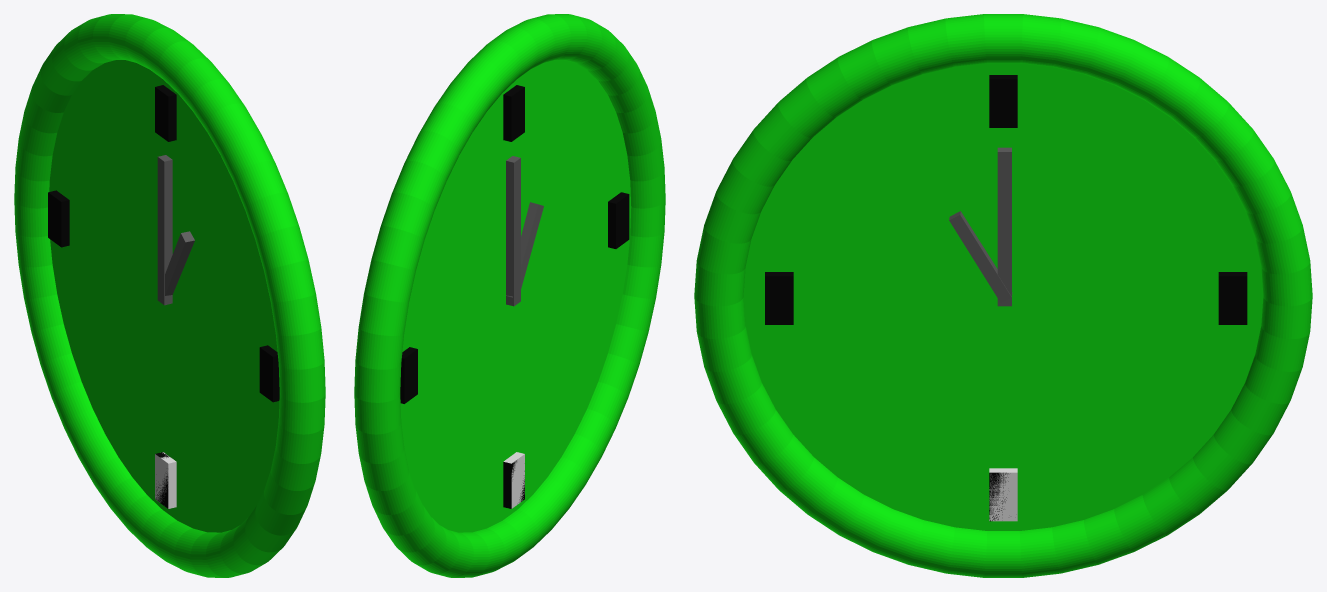
File: addtime.fbx
3 renders of one model, left to right at view 1: azimuth 30°, elevation 25°; view 2: azimuth 150°, elevation 25°; view 3: azimuth 270°, elevation 25°, orthographic. The views are drawn at different scales.
Visible parts, largest first — view 1: Circle, Cube.004, Cube.006, Cube.002; view 2: Circle, Cube.004, Cube.006, Cube.002; view 3: Circle, Cube.004, Cube.006, Cube.002.
Boxes of the visible parts, left/top/right/bottom form: Circle: left=14, top=14, right=325, bottom=577; Cube.004: left=48, top=85, right=279, bottom=508; Cube.006: left=157, top=155, right=194, bottom=305; Cube.002: left=155, top=452, right=176, bottom=508; Circle: left=354, top=14, right=665, bottom=577; Cube.004: left=400, top=85, right=629, bottom=508; Cube.006: left=506, top=156, right=543, bottom=306; Cube.002: left=503, top=452, right=524, bottom=508; Circle: left=694, top=14, right=1312, bottom=577; Cube.004: left=765, top=75, right=1247, bottom=521; Cube.006: left=949, top=147, right=1012, bottom=306; Cube.002: left=989, top=468, right=1017, bottom=521.
Size of the model in its own units: 30 by 375 by 376.
